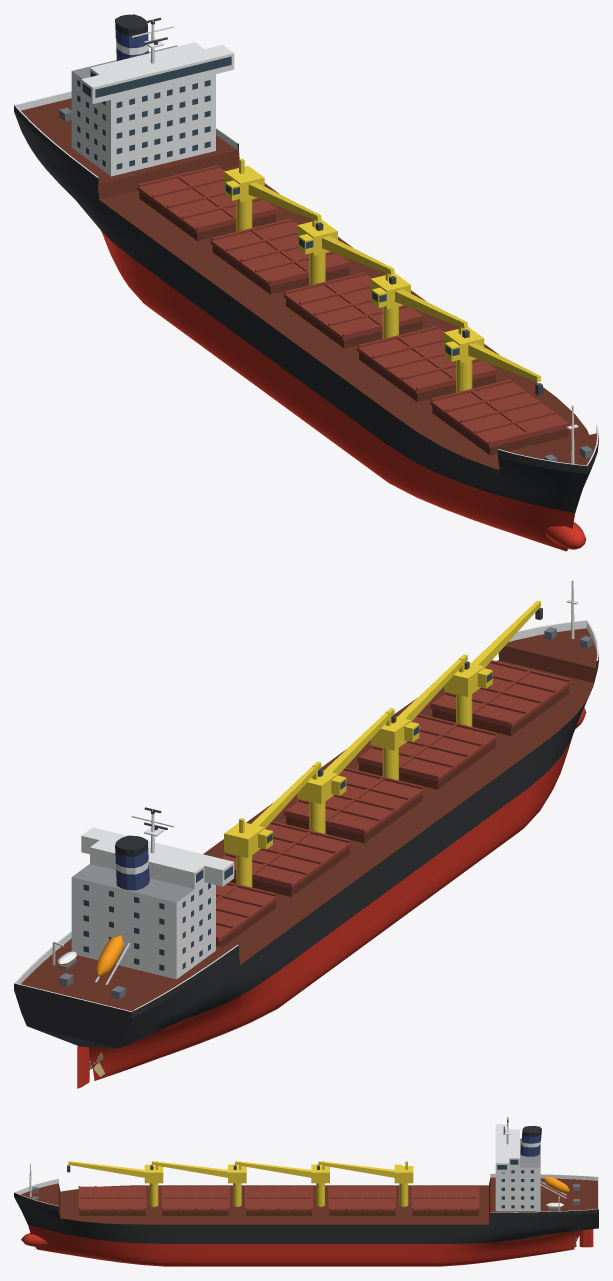
The model's file is ambient_bulk_carrier.fbx.
3 views of the same model, one above another, from view 1: azimuth 30°, elevation 25°; view 2: azimuth 150°, elevation 25°; view 3: azimuth 270°, elevation 25° (orthographic). The views are drawn at different scales.
Visible parts, largest first — view 1: ambient_bulk_carrier; view 2: ambient_bulk_carrier; view 3: ambient_bulk_carrier.
Part boxes in pixels (x1=…): ambient_bulk_carrier: x1=14, y1=14, x2=598, y2=551; ambient_bulk_carrier: x1=14, y1=580, x2=598, y2=1088; ambient_bulk_carrier: x1=14, y1=1117, x2=598, y2=1266.
Size of the model in its own units: 27.06 by 41.7 by 170.
